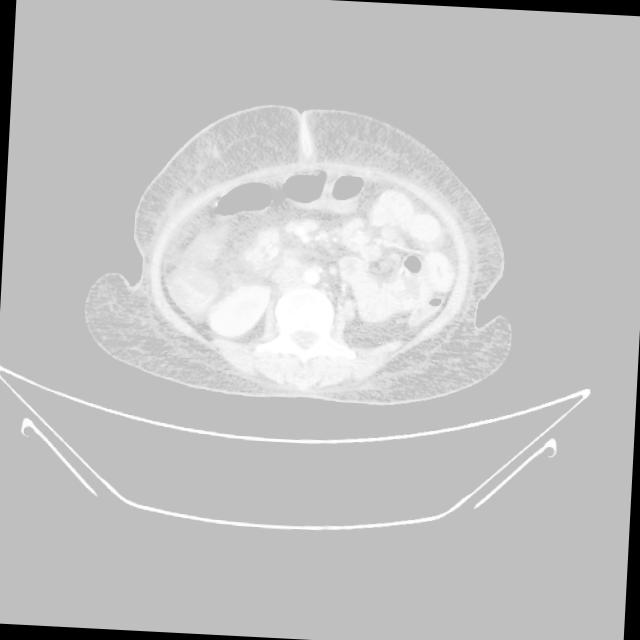NORMAL: (80, 113, 484, 405)
